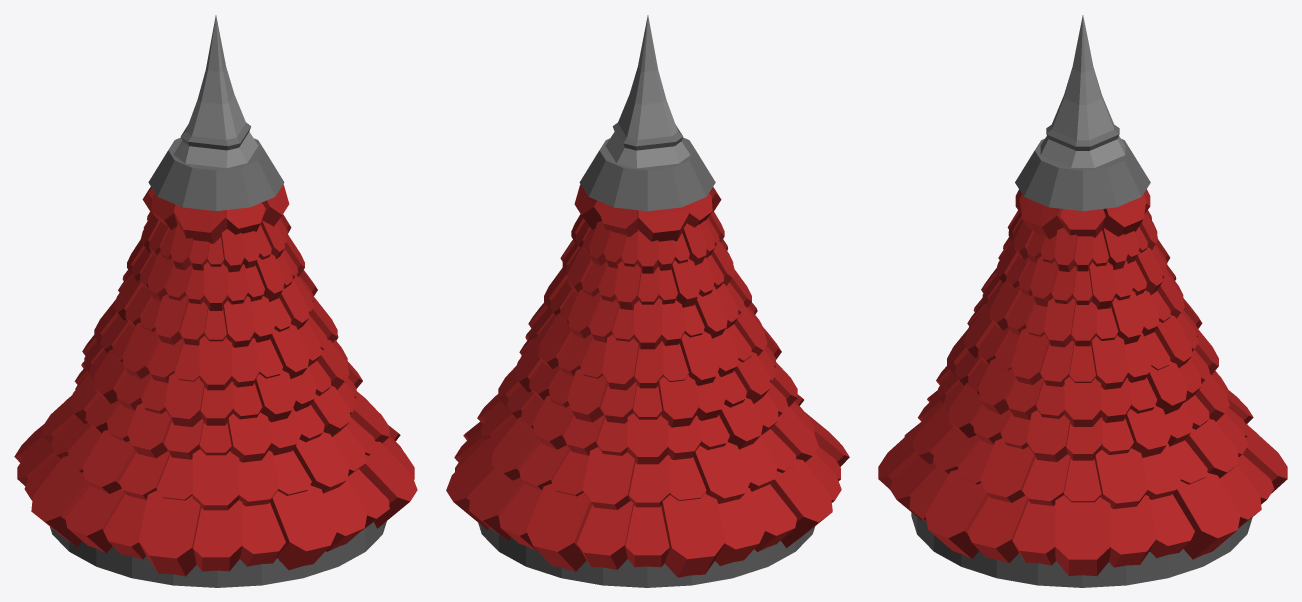
File: Prop_Building_Fantasy_Peak_Roof_Shingles_01.FBX
3 renders of one model, left to right at view 1: azimuth 30°, elevation 25°; view 2: azimuth 150°, elevation 25°; view 3: azimuth 270°, elevation 25°, orthographic.
Visible parts, largest first — view 1: Prop_Building_Fantasy_Peak_Roof_Shingles_01; view 2: Prop_Building_Fantasy_Peak_Roof_Shingles_01; view 3: Prop_Building_Fantasy_Peak_Roof_Shingles_01.
Part boxes in pixels (x1,y1,x2,y2): Prop_Building_Fantasy_Peak_Roof_Shingles_01: (14, 15, 417, 587); Prop_Building_Fantasy_Peak_Roof_Shingles_01: (446, 15, 849, 587); Prop_Building_Fantasy_Peak_Roof_Shingles_01: (878, 15, 1287, 587).
Bounding box in the file's own units: 8641 × 11664 × 8641.
